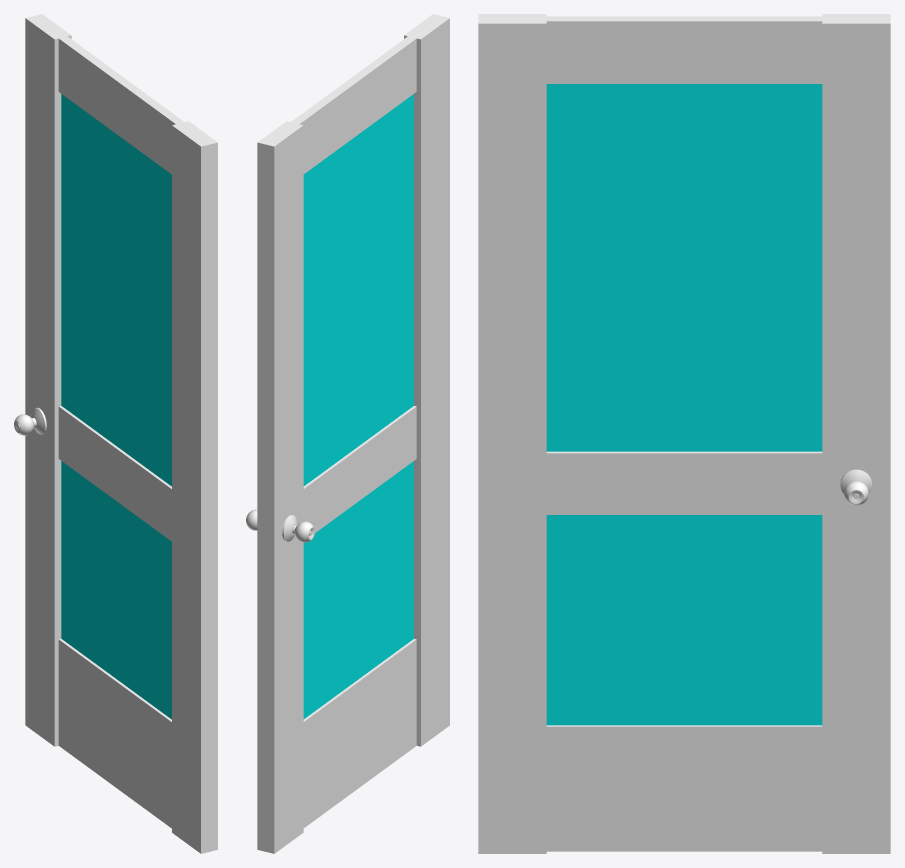
The model's file is SM_Door.FBX.
3 renders of one model, left to right at view 1: azimuth 30°, elevation 25°; view 2: azimuth 150°, elevation 25°; view 3: azimuth 270°, elevation 25°, orthographic. The views are drawn at different scales.
Visible parts, largest first — view 1: SM_Door; view 2: SM_Door; view 3: SM_Door.
Boxes of the visible parts, bbox=[...] form: SM_Door: bbox=[14, 14, 217, 853]; SM_Door: bbox=[246, 14, 449, 853]; SM_Door: bbox=[478, 14, 890, 853].
Size of the model in its own units: 18.48 by 90 by 200.
